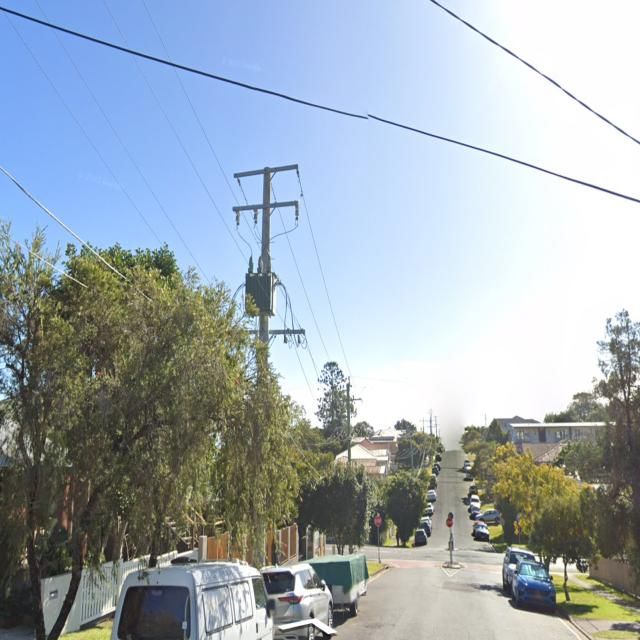HV-transmission: (232, 162, 299, 226)
LV link: (297, 334, 308, 349), (284, 334, 294, 349)
crossarm: (234, 163, 298, 179), (232, 199, 300, 212), (248, 328, 305, 335), (336, 397, 362, 403)
timber-pole: (251, 165, 272, 569), (346, 384, 351, 464)
transformer: (244, 257, 276, 315)
